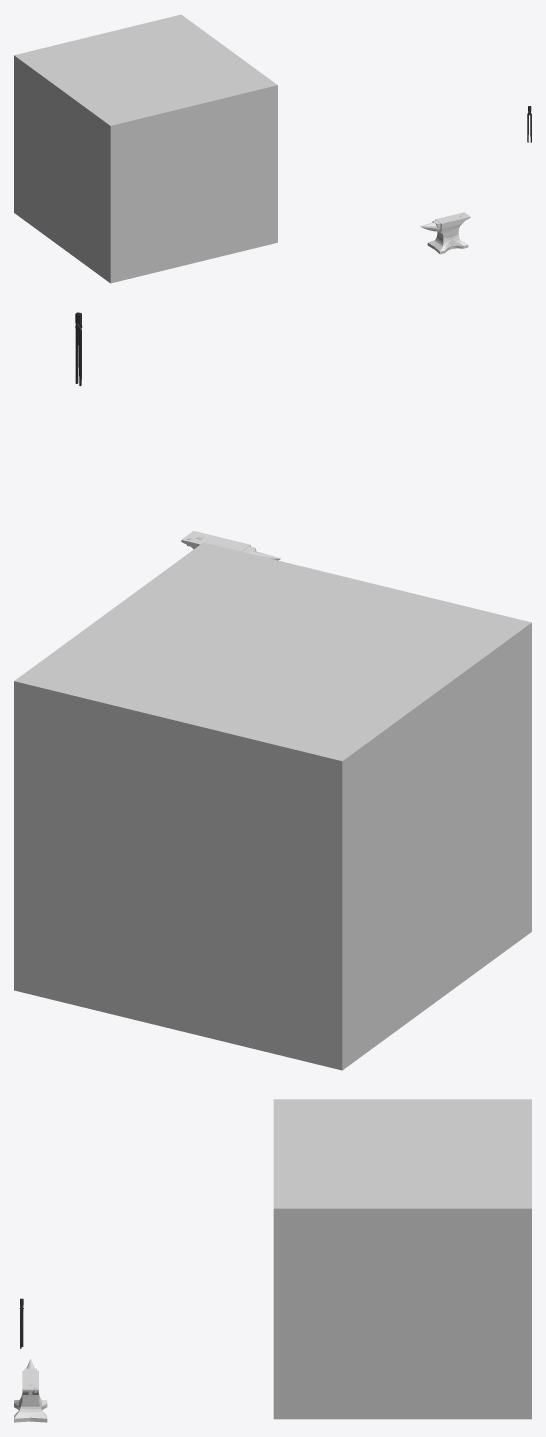
The model's file is hollowbittong.dae.
The picture shows the model from 3 angles, top to bottom: view 1: azimuth 30°, elevation 25°; view 2: azimuth 150°, elevation 25°; view 3: azimuth 270°, elevation 25°; orthographic projection. The views are drawn at different scales.
Visible parts, largest first — view 1: Cube_004, Cube_002; view 2: Cube_004, Cube_002; view 3: Cube_004, Cube_002.
Boxes of the visible parts, x1,y1,x2,y2 form: Cube_004: [14, 14, 277, 283]; Cube_002: [420, 212, 470, 254]; Cube_004: [14, 542, 531, 1070]; Cube_002: [181, 531, 280, 560]; Cube_004: [273, 1099, 531, 1419]; Cube_002: [14, 1359, 47, 1422].
Bounding box in the file's own units: 3.91 × 4.01 × 1.9.
Materials: 1 (1 with a texture image).
